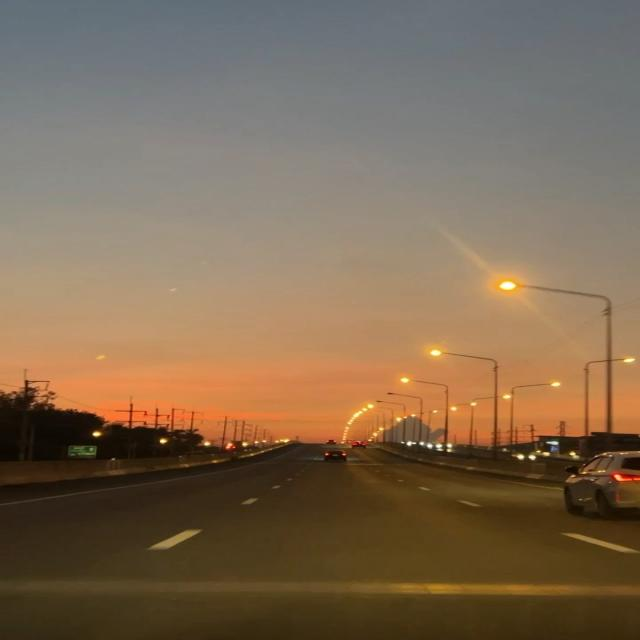Poth-hole: (286, 445, 516, 606)
